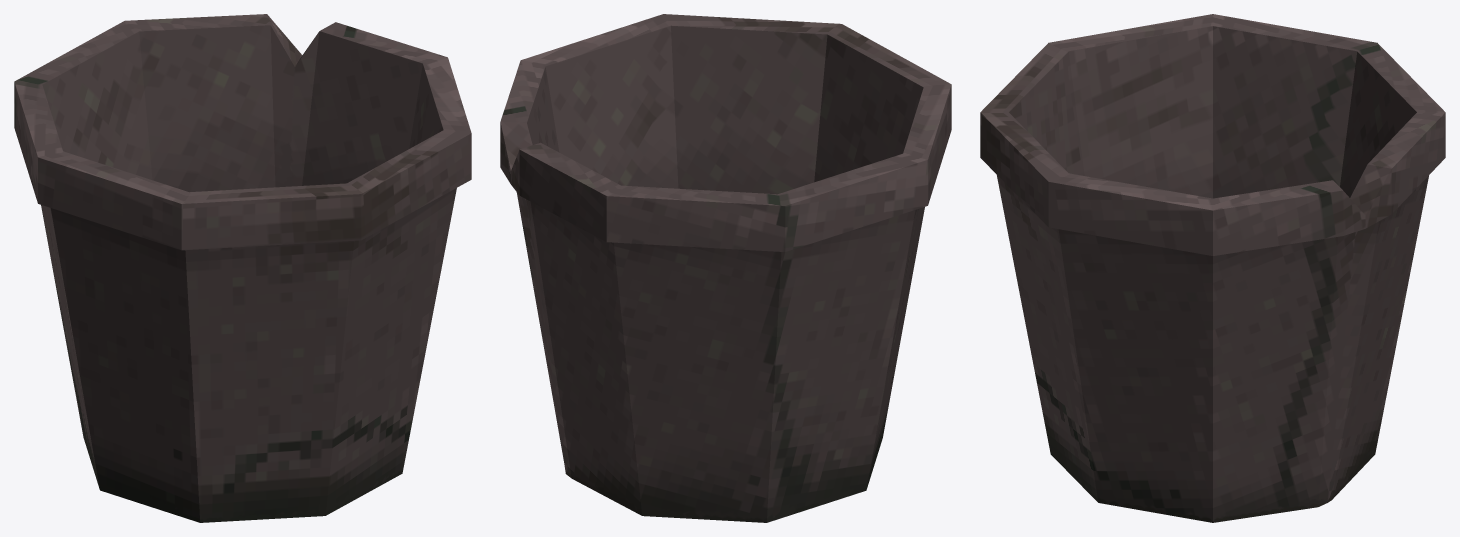
Rendered from pot1.fbx.
3 views of the same model, side by side, from view 1: azimuth 30°, elevation 25°; view 2: azimuth 150°, elevation 25°; view 3: azimuth 270°, elevation 25° (orthographic).
Parts seen in each view (by area): view 1: pot1; view 2: pot1; view 3: pot1.
Boxes of the visible parts, x1,y1,x2,y2 form: pot1: (14, 14, 471, 522); pot1: (500, 14, 951, 522); pot1: (980, 14, 1445, 522).
Bounding box in the file's own units: 0.741 × 0.6047 × 0.741.
